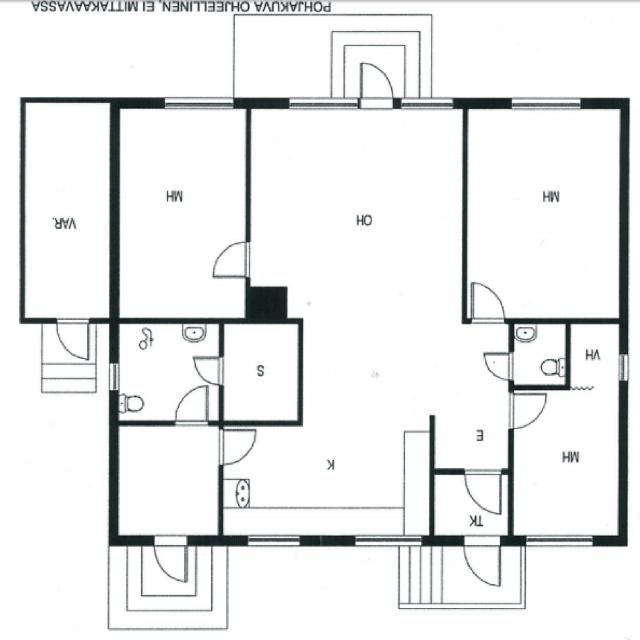door: (464, 536, 499, 586), (465, 470, 501, 513), (154, 536, 187, 582), (360, 61, 392, 108), (176, 385, 208, 426), (471, 282, 503, 322), (508, 394, 544, 429), (213, 242, 249, 277), (57, 318, 88, 358), (219, 430, 254, 464), (484, 353, 513, 380), (194, 357, 223, 384)
